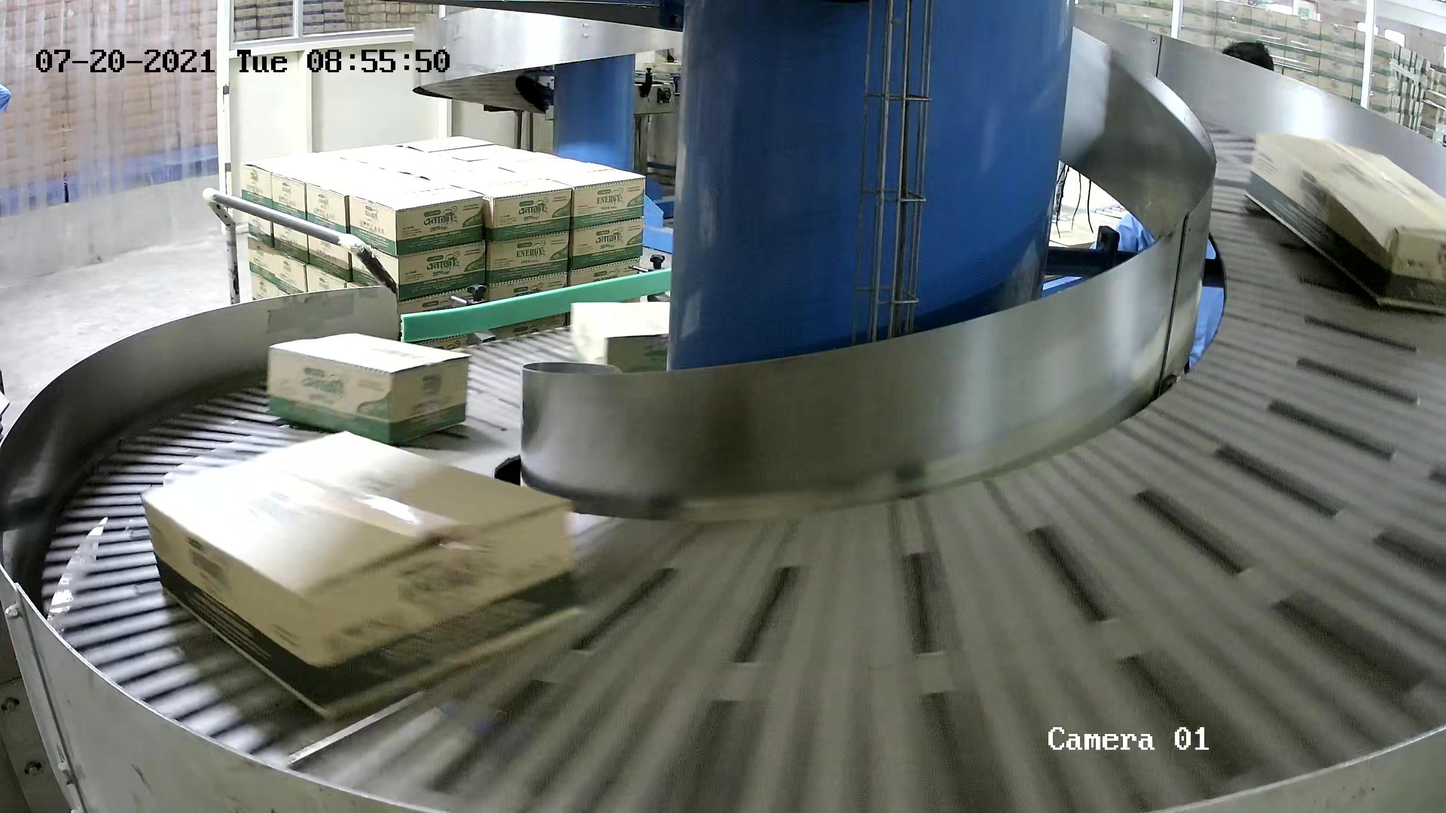Box: (139, 428, 583, 723), (1243, 130, 1446, 314), (266, 332, 472, 445), (569, 300, 671, 376)
